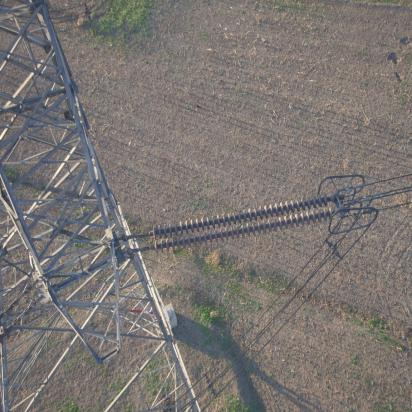insulator: (142, 192, 338, 253)
